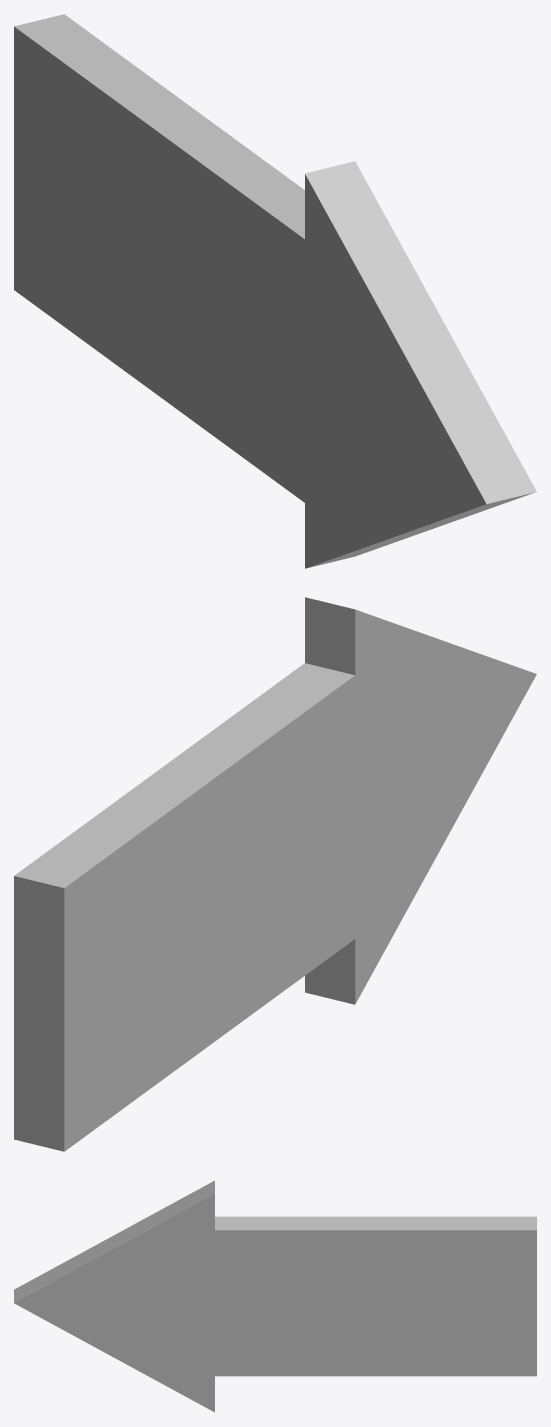
Rendered from arrow.obj.
3 views of the same model, one above another, from view 1: azimuth 30°, elevation 25°; view 2: azimuth 150°, elevation 25°; view 3: azimuth 270°, elevation 25° (orthographic). The views are drawn at different scales.
Parts seen in each view (by area): view 1: Cube; view 2: Cube; view 3: Cube.
Part boxes in pixels (bbox=[...]): Cube: bbox=[14, 14, 536, 568]; Cube: bbox=[14, 597, 536, 1151]; Cube: bbox=[14, 1180, 536, 1412].
Bounding box in the file's own units: 0.2 × 1.5 × 3.25.
